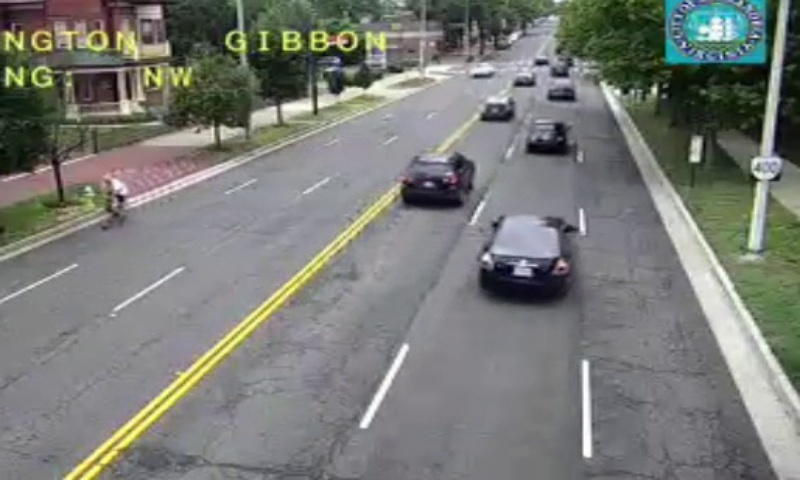car: (479, 213, 572, 289), (401, 154, 473, 198), (527, 119, 566, 152), (480, 97, 516, 122)
